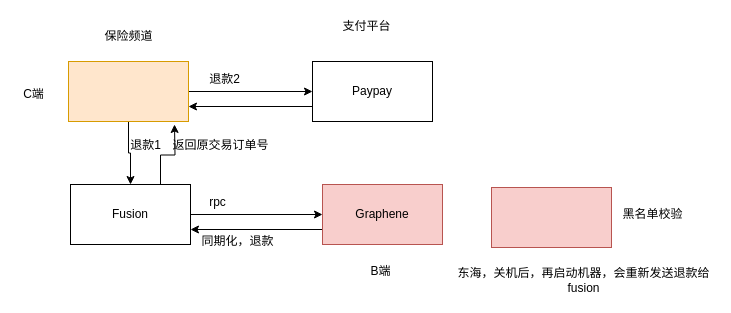
This 731x313 diagram has some shape labels left out. The box of each missing label's shape, as (x1, y1, x2, y2) in pixels:
graphene2: (490, 186, 612, 248)
YJ: (68, 60, 188, 122)
